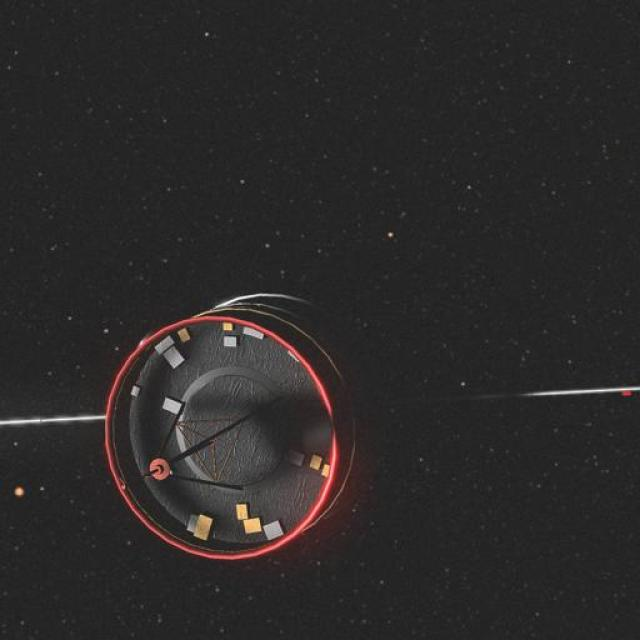double_start: (67, 290, 438, 572)
